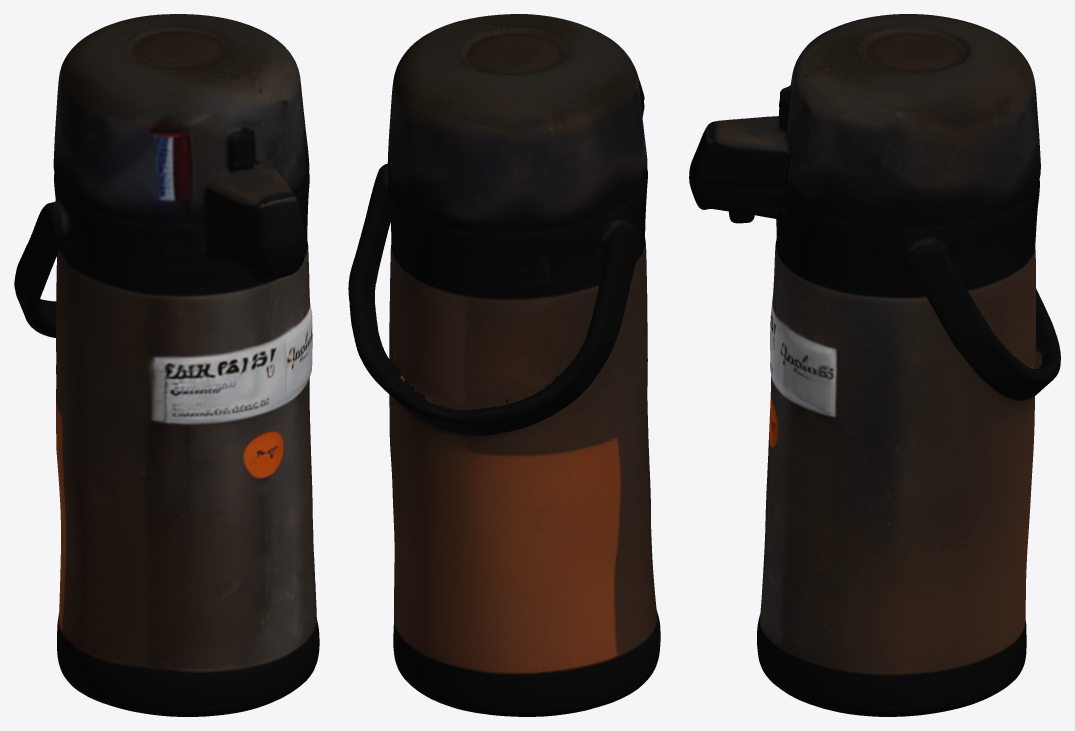
3 views of the same model, side by side, from view 1: azimuth 30°, elevation 25°; view 2: azimuth 150°, elevation 25°; view 3: azimuth 270°, elevation 25° (orthographic).
Visible parts, largest first — view 1: tmpx8tw3btf.ply; view 2: tmpx8tw3btf.ply; view 3: tmpx8tw3btf.ply.
Boxes of the visible parts, x1,y1,x2,y2 form: tmpx8tw3btf.ply: (14,14,319,716); tmpx8tw3btf.ply: (348,14,660,716); tmpx8tw3btf.ply: (689,14,1060,716).
Bounding box in the file's own units: 0.8595 × 1.99 × 1.08.
1 material, 1 textured.
